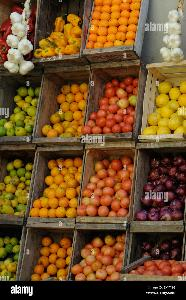bell_pepper: (38, 1, 84, 60)
garlic: (0, 0, 36, 74), (147, 2, 186, 63)
lemon: (140, 66, 186, 134)
lime: (0, 66, 42, 138), (0, 146, 32, 220), (0, 225, 25, 278)
onion: (136, 147, 186, 223)
orange: (36, 64, 86, 142), (32, 149, 84, 217), (87, 1, 143, 60), (24, 221, 72, 287)
tomato: (79, 145, 138, 223), (83, 64, 141, 136), (72, 222, 130, 284), (130, 225, 186, 281)
